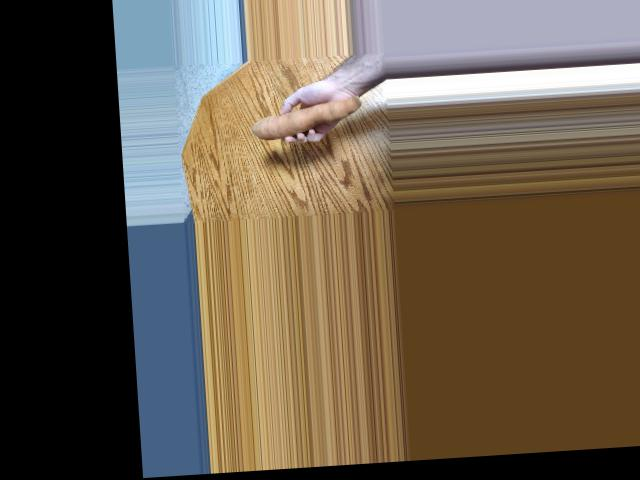sweet_potato: (245, 92, 357, 147)
